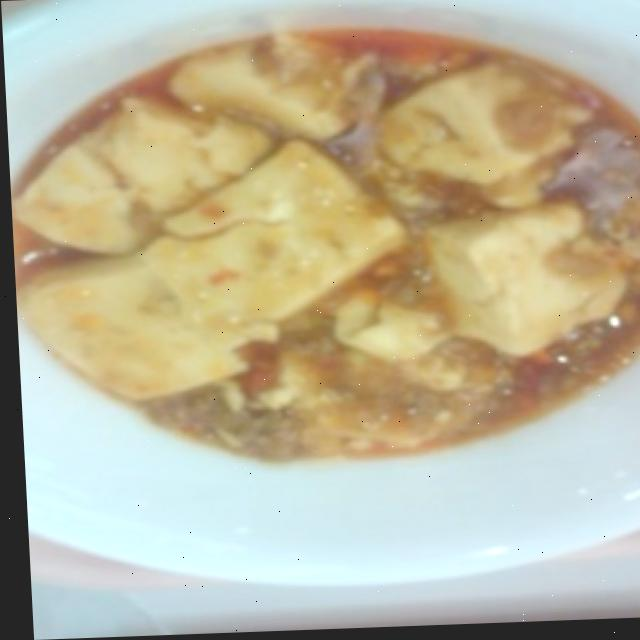豆腐料理: (0, 0, 640, 601)
